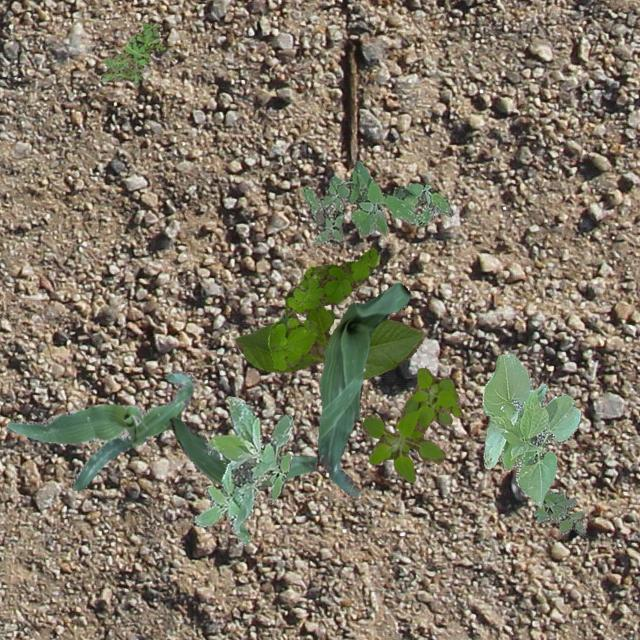crop: (4, 368, 196, 489), (317, 282, 408, 496), (482, 352, 580, 506), (232, 306, 423, 378), (168, 416, 316, 490)
weed: (192, 396, 292, 544), (266, 248, 378, 372), (300, 160, 452, 243), (360, 366, 460, 482), (100, 22, 164, 82), (532, 486, 584, 534)
